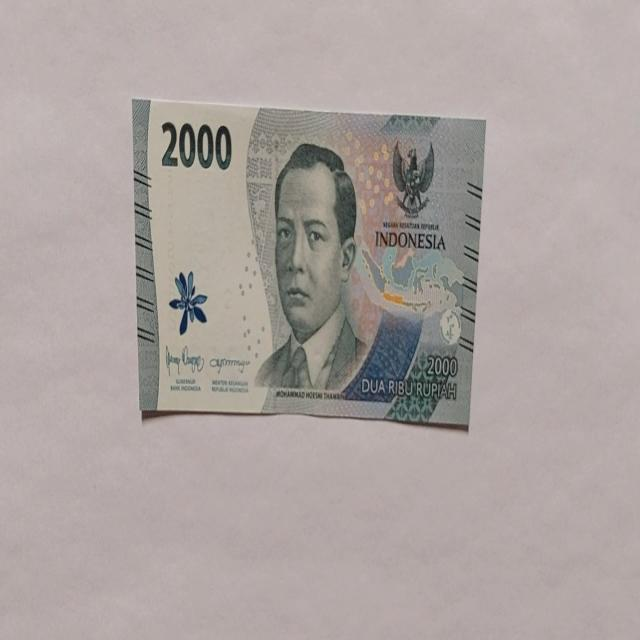dua ribu rupiah: (132, 97, 486, 426), (253, 141, 368, 394)
